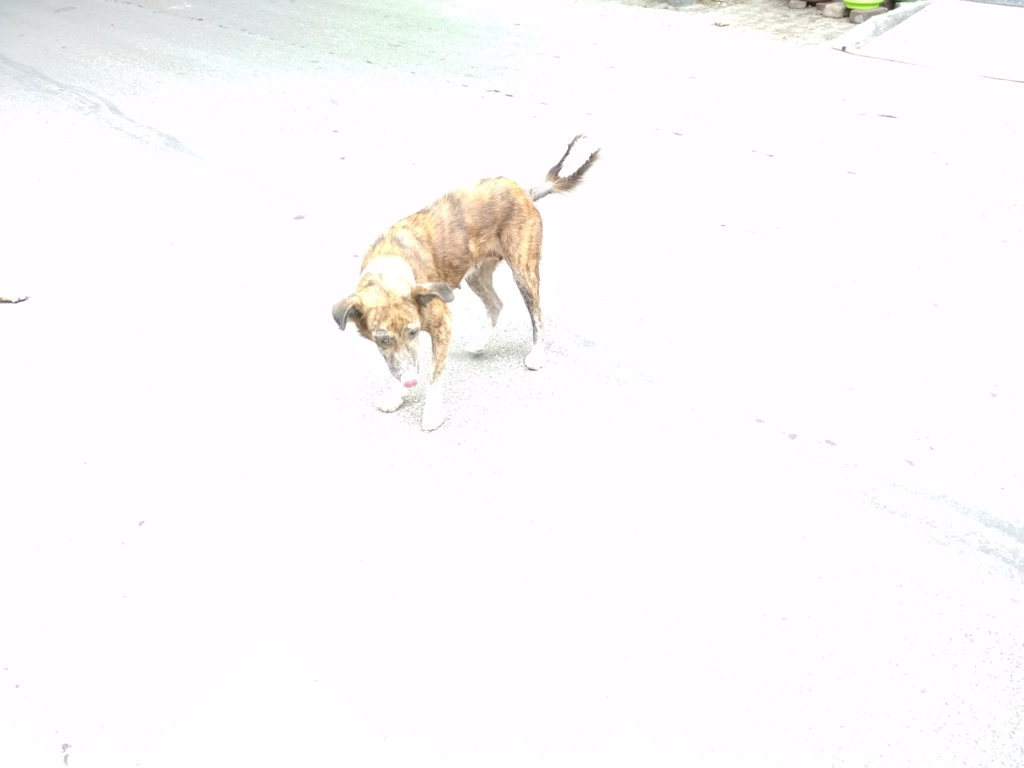dog: (332, 124, 609, 432)
